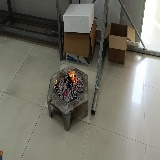fire: (69, 71, 75, 82), (55, 78, 57, 84)
